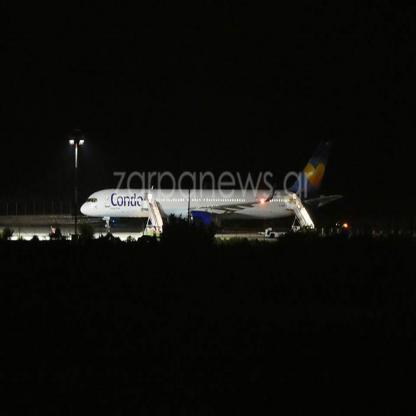CIV_Plane: (78, 134, 343, 235)
